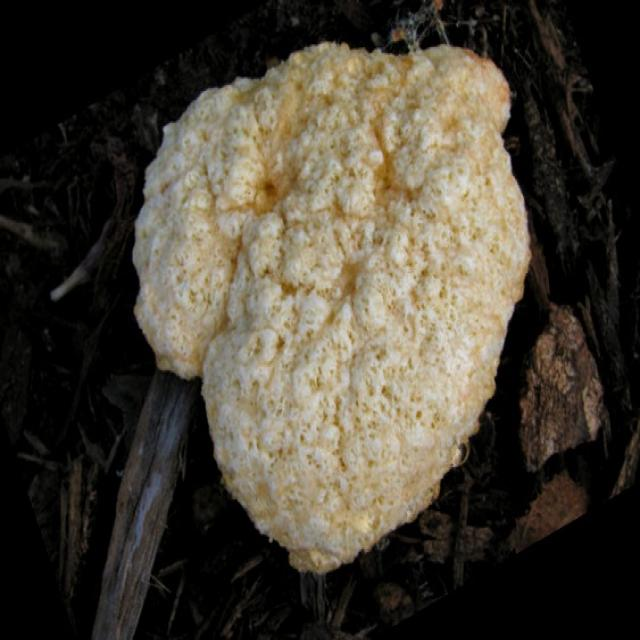Dog_vomit_slime_mold: (88, 39, 552, 578)
